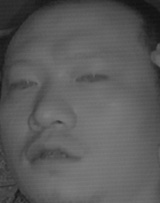eye: (74, 65, 109, 89), (8, 72, 40, 94)
mouth: (26, 136, 84, 172)
